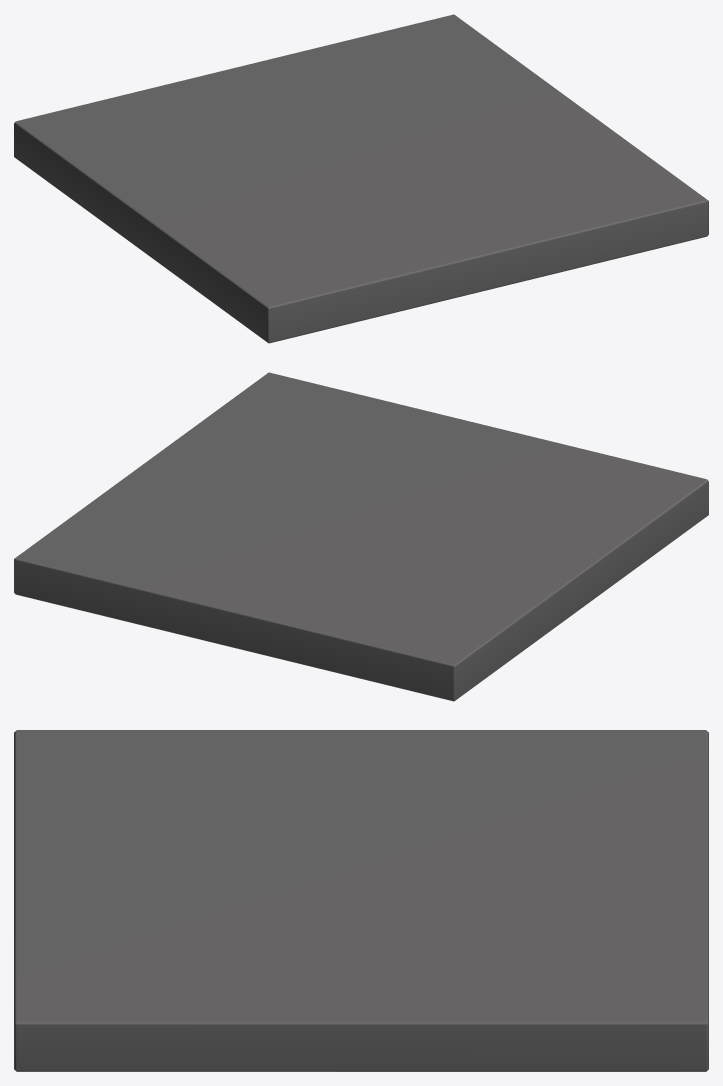
Rendered from Floor_navy.glb.
3 renders of one model, top to bottom at view 1: azimuth 30°, elevation 25°; view 2: azimuth 150°, elevation 25°; view 3: azimuth 270°, elevation 25°, orthographic. The views are drawn at different scales.
Visible parts, largest first — view 1: Floor_4; view 2: Floor_4; view 3: Floor_4.
Boxes of the visible parts, bbox=[...] form: Floor_4: bbox=[14, 14, 708, 343]; Floor_4: bbox=[14, 372, 708, 701]; Floor_4: bbox=[14, 730, 708, 1071].
Bounding box in the file's own units: 5 × 0.4 × 5.
Materials: 1 (1 with a texture image).
